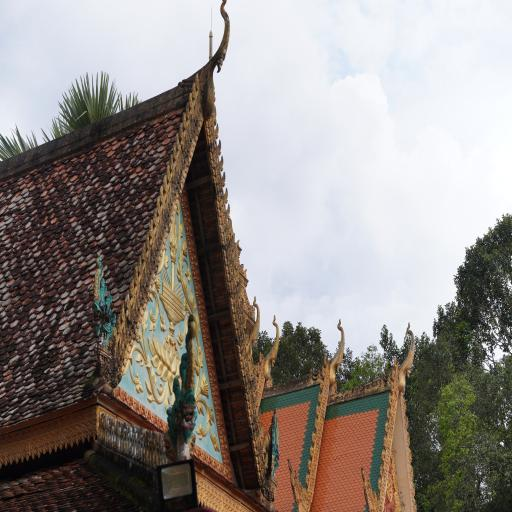lua: (204, 0, 237, 82), (258, 311, 286, 384), (391, 324, 418, 394), (326, 320, 347, 392), (247, 290, 263, 354)
ran: (159, 309, 204, 464), (89, 258, 118, 353), (262, 409, 289, 500), (288, 460, 312, 512)
